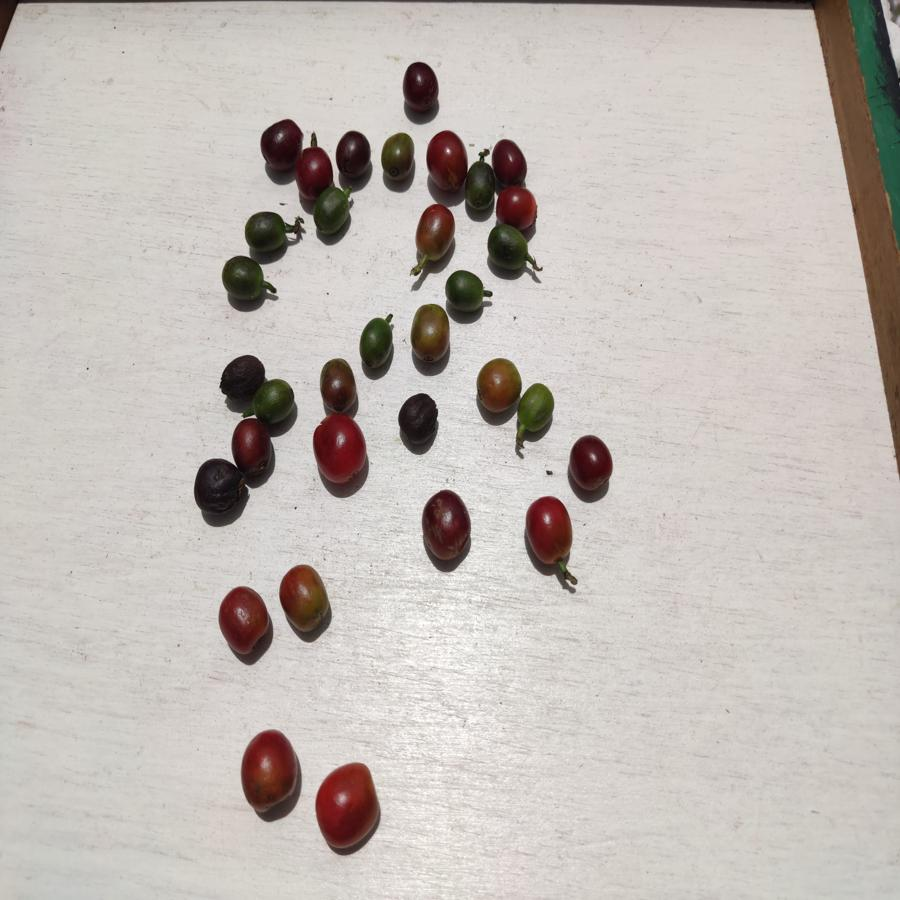Inmaduro: (243, 212, 293, 258), (220, 255, 266, 305), (486, 225, 531, 274), (519, 383, 558, 439), (358, 317, 395, 373), (444, 270, 487, 313), (253, 381, 296, 422), (314, 191, 350, 238), (467, 158, 496, 211)
Maduro: (314, 760, 384, 857), (240, 731, 301, 815), (312, 416, 368, 490), (526, 496, 576, 577), (218, 587, 272, 653), (423, 128, 468, 196), (499, 186, 541, 226), (299, 148, 330, 195)
Pinton: (281, 564, 333, 644), (473, 359, 521, 417), (412, 202, 456, 265), (407, 300, 449, 365), (314, 354, 358, 412), (381, 129, 417, 187)
Sobremaduro: (420, 487, 472, 560), (191, 457, 245, 518), (566, 434, 616, 492), (398, 58, 445, 115), (397, 392, 443, 446), (233, 421, 275, 478), (259, 117, 302, 169), (335, 129, 375, 178), (217, 353, 259, 399), (492, 138, 527, 187)
